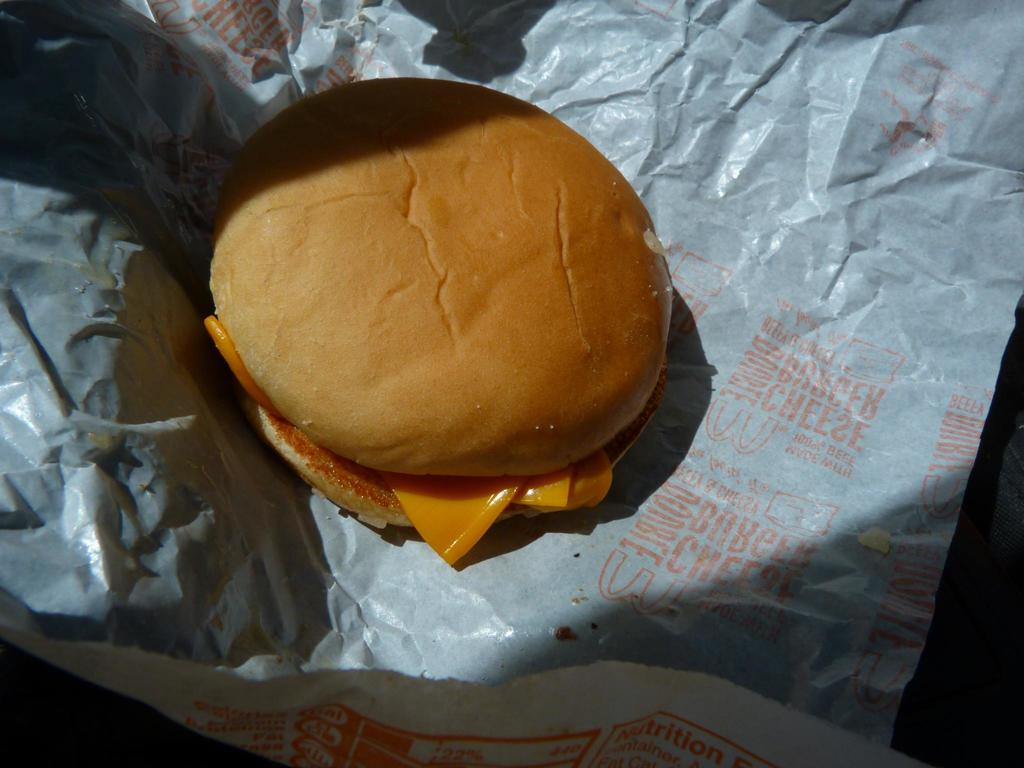Hamburger: (203, 79, 678, 564)
